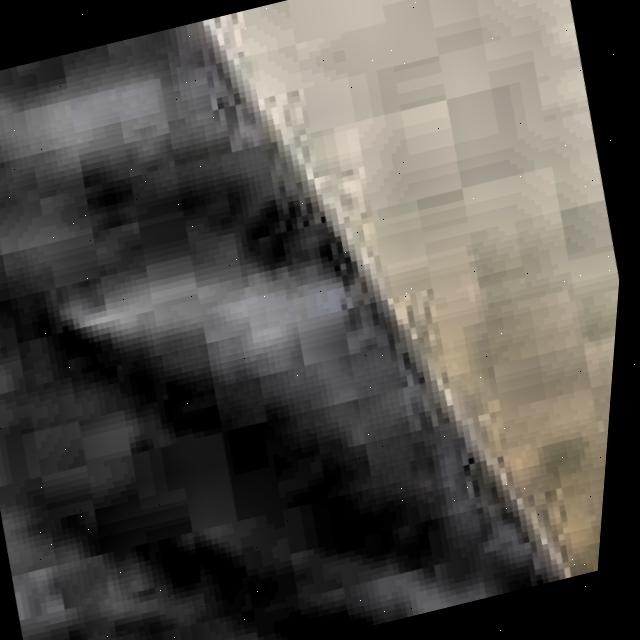paper: (0, 19, 587, 640)
